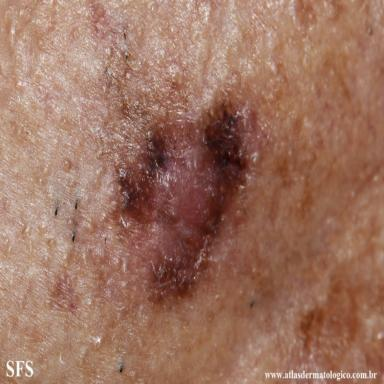Melanoma: (113, 99, 260, 300)
